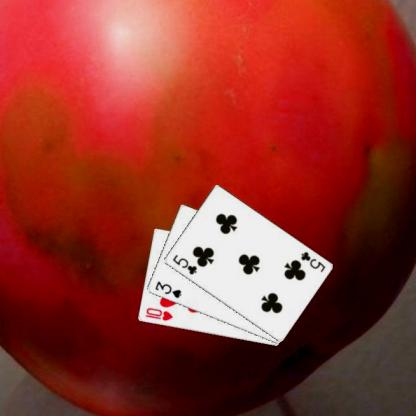10H: (142, 306, 173, 322)
3S: (152, 278, 183, 300)
5C: (298, 249, 326, 274), (169, 252, 198, 276)
